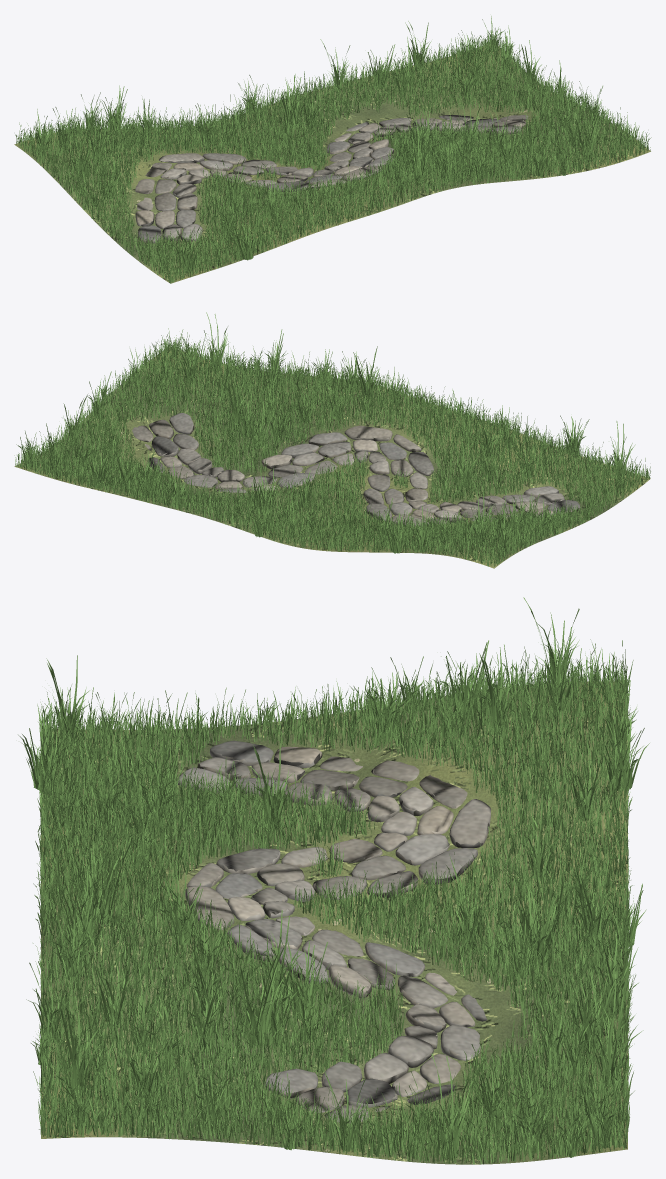
Rendered from path_generated_demo.glb.
3 views of the same model, one above another, from view 1: azimuth 30°, elevation 25°; view 2: azimuth 150°, elevation 25°; view 3: azimuth 270°, elevation 25° (orthographic). The views are drawn at different scales.
Visible parts, largest first — view 1: PathPatchGrass, PathPatchGround, PathPatchStones; view 2: PathPatchGrass, PathPatchGround, PathPatchStones; view 3: PathPatchGrass, PathPatchGround, PathPatchStones.
Boxes of the visible parts, x1,y1,x2,y2 form: PathPatchGrass: [15, 16, 651, 283]; PathPatchGround: [14, 45, 650, 283]; PathPatchStones: [135, 115, 528, 243]; PathPatchGrass: [14, 312, 650, 566]; PathPatchGround: [14, 347, 650, 568]; PathPatchStones: [132, 413, 580, 526]; PathPatchGrass: [18, 597, 649, 1164]; PathPatchGround: [41, 681, 627, 1164]; PathPatchStones: [176, 740, 490, 1123].
Size of the model in its own units: 11.14 by 2.01 by 6.67.
3 materials, 2 textured.
